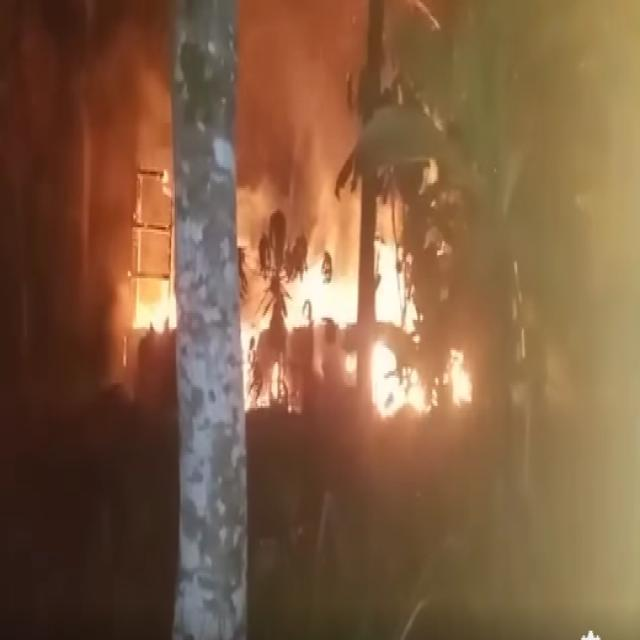Fire: (279, 206, 466, 418), (134, 276, 182, 350)
Smoke: (412, 20, 640, 633)
